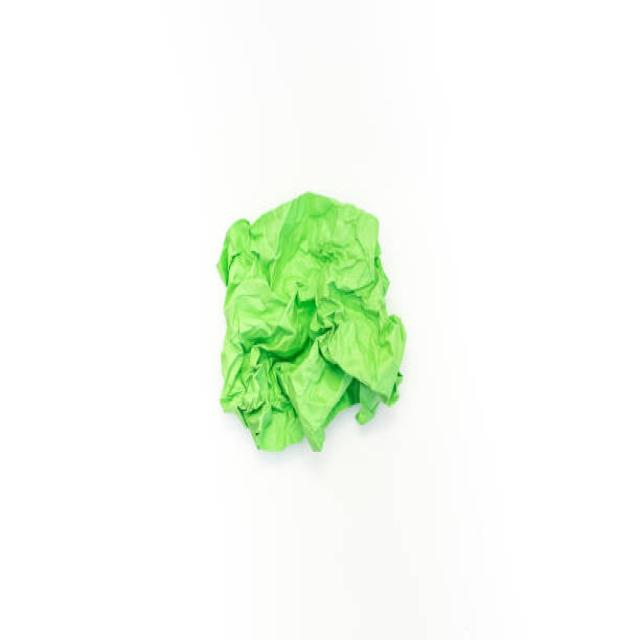electronic: (215, 190, 406, 452)
